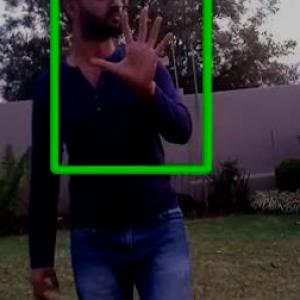follow_hand: (87, 0, 177, 94)
